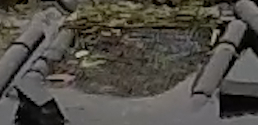bag: (22, 1, 245, 106)
